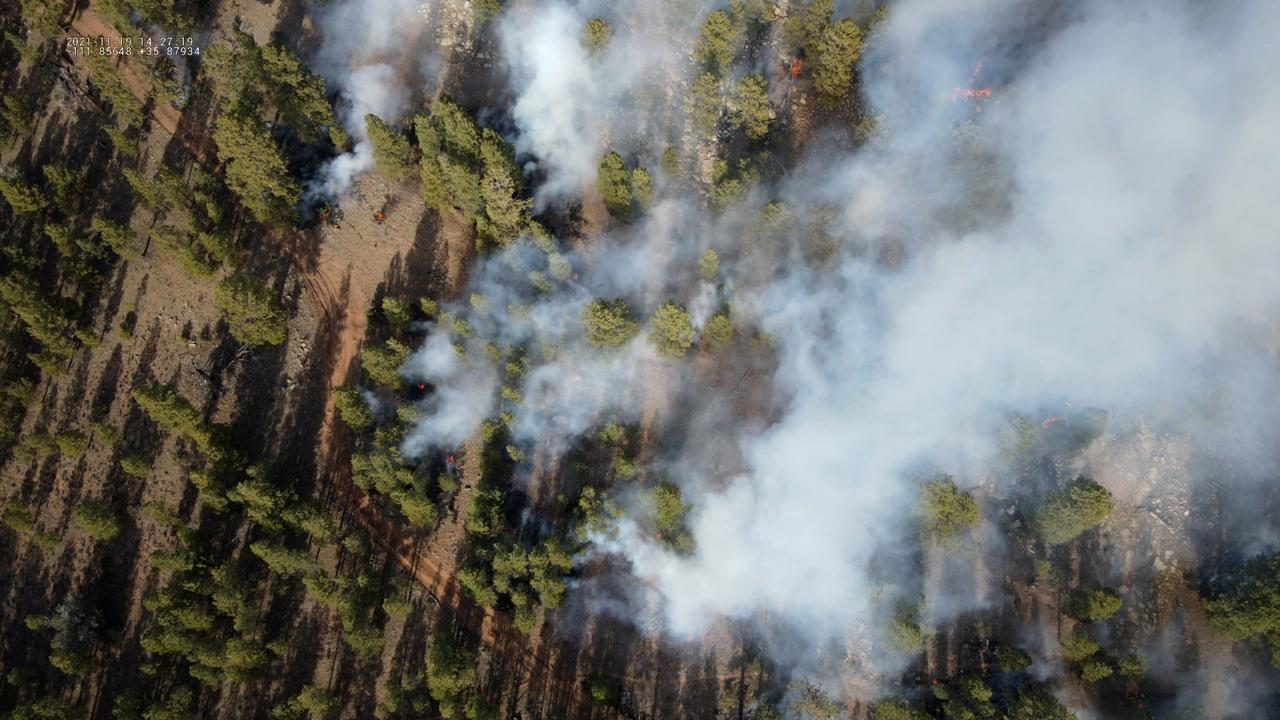fire: (953, 85, 993, 100), (1040, 413, 1060, 430), (791, 56, 804, 76), (972, 62, 984, 76), (445, 454, 455, 465), (376, 212, 385, 222), (319, 211, 329, 220), (417, 382, 425, 390), (974, 106, 981, 114), (655, 533, 662, 540), (931, 679, 939, 685), (573, 273, 579, 279)
smoke: (292, 0, 1280, 720), (147, 24, 212, 87), (129, 10, 143, 26)
